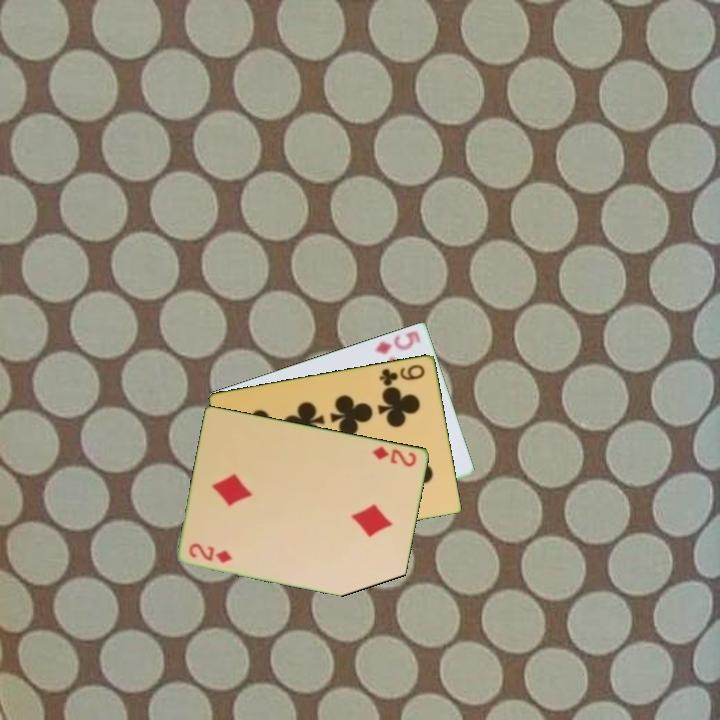2d: (369, 442, 420, 469), (185, 540, 235, 566)
5d: (372, 327, 423, 357)
9c: (376, 360, 428, 388)
